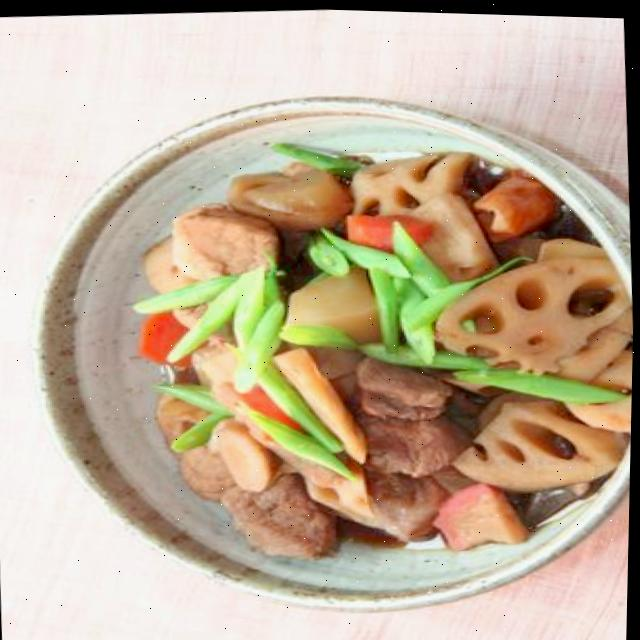鸡肉料理 含炸鸡: (0, 64, 639, 640)
